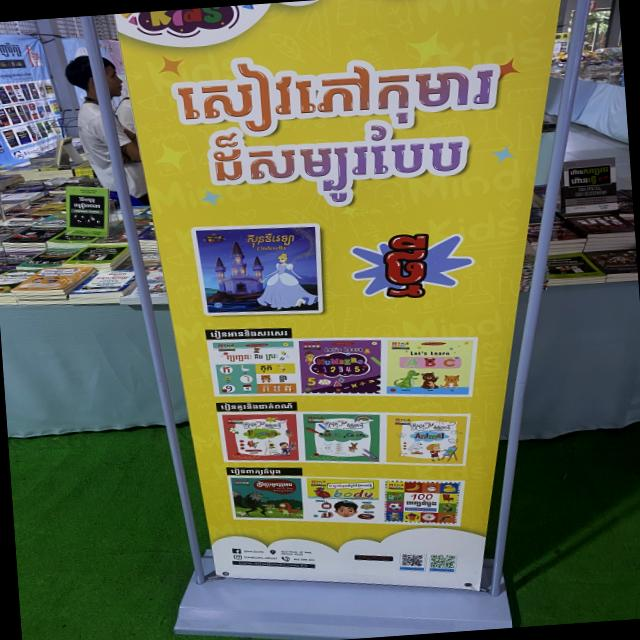2: (225, 351, 279, 363), (260, 384, 293, 392)
319: (292, 556, 316, 561)
506: (318, 364, 362, 375)
534: (409, 492, 434, 500), (415, 507, 425, 511)
764: (303, 374, 318, 387)
805: (302, 549, 313, 554)
893: (0, 39, 24, 57)
Yolov11_80vkh: (173, 56, 498, 137), (205, 121, 482, 210), (378, 227, 439, 304), (208, 327, 289, 339), (243, 231, 296, 248), (218, 401, 296, 410), (320, 417, 367, 430), (237, 417, 285, 429), (228, 467, 283, 476), (408, 421, 453, 432), (568, 165, 609, 177), (569, 174, 598, 187), (328, 481, 372, 488), (404, 498, 437, 507), (355, 554, 392, 562), (254, 480, 293, 487), (72, 202, 101, 209), (275, 373, 289, 384), (77, 195, 96, 203), (260, 363, 274, 373), (220, 365, 234, 374), (242, 374, 252, 382), (225, 384, 233, 391)
